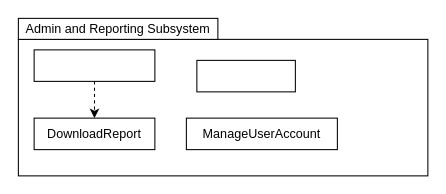
Some shapes in this 446 by 194 pixel diagram are drawn without their labels. The centre of each missing label's shape, as x and y in pixels:
"GenerateReport" belongs at (94,65).
"View Report" belongs at (245,75).
